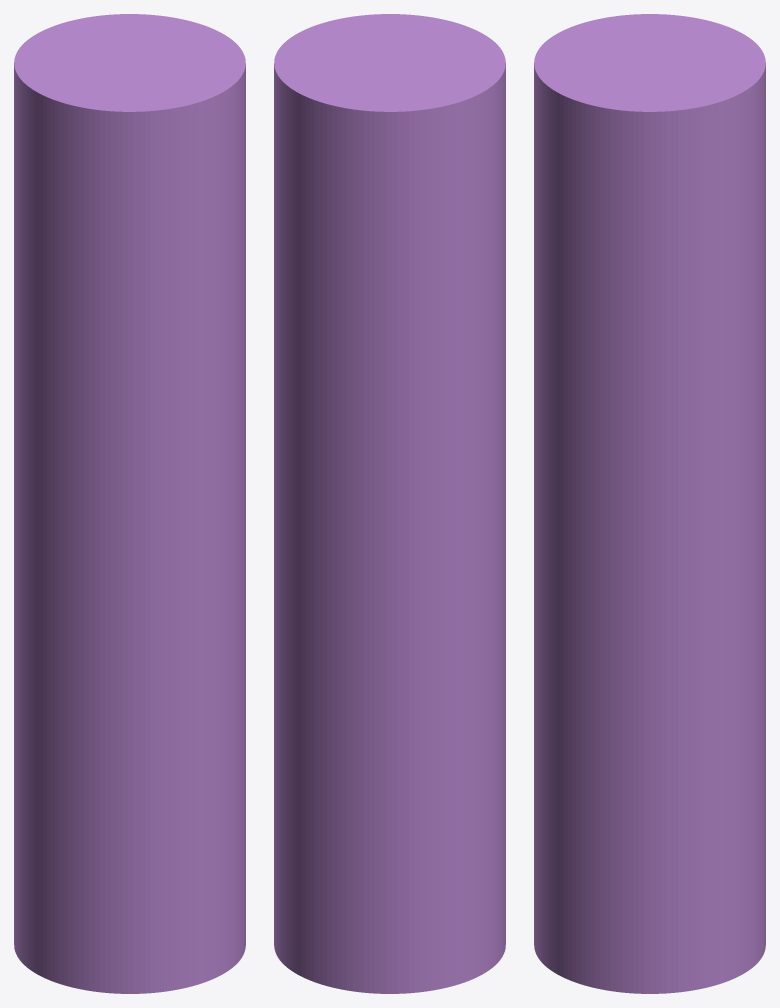
Rendered from flower-scoring-volume.glb.
3 views of the same model, side by side, from view 1: azimuth 30°, elevation 25°; view 2: azimuth 150°, elevation 25°; view 3: azimuth 270°, elevation 25° (orthographic).
Parts seen in each view (by area): view 1: Flower Scoring Volume; view 2: Flower Scoring Volume; view 3: Flower Scoring Volume.
Boxes of the visible parts, x1,y1,x2,y2 form: Flower Scoring Volume: [14, 14, 245, 993]; Flower Scoring Volume: [274, 14, 505, 993]; Flower Scoring Volume: [534, 14, 765, 993].
Bounding box in the file's own units: 0.1016 × 0.4267 × 0.1016.
